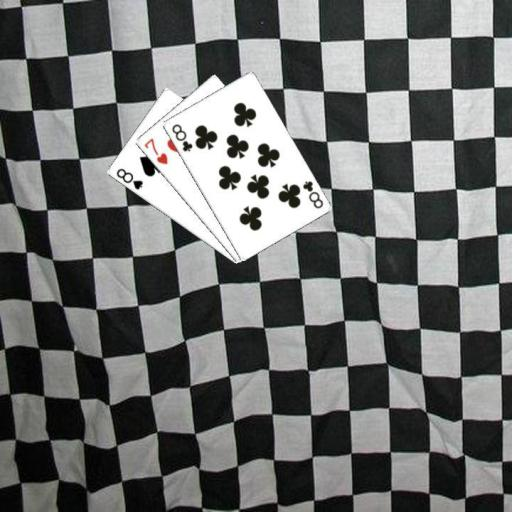7H: (141, 135, 169, 166)
8C: (169, 121, 194, 153), (300, 178, 325, 210)
8S: (113, 165, 145, 191)
